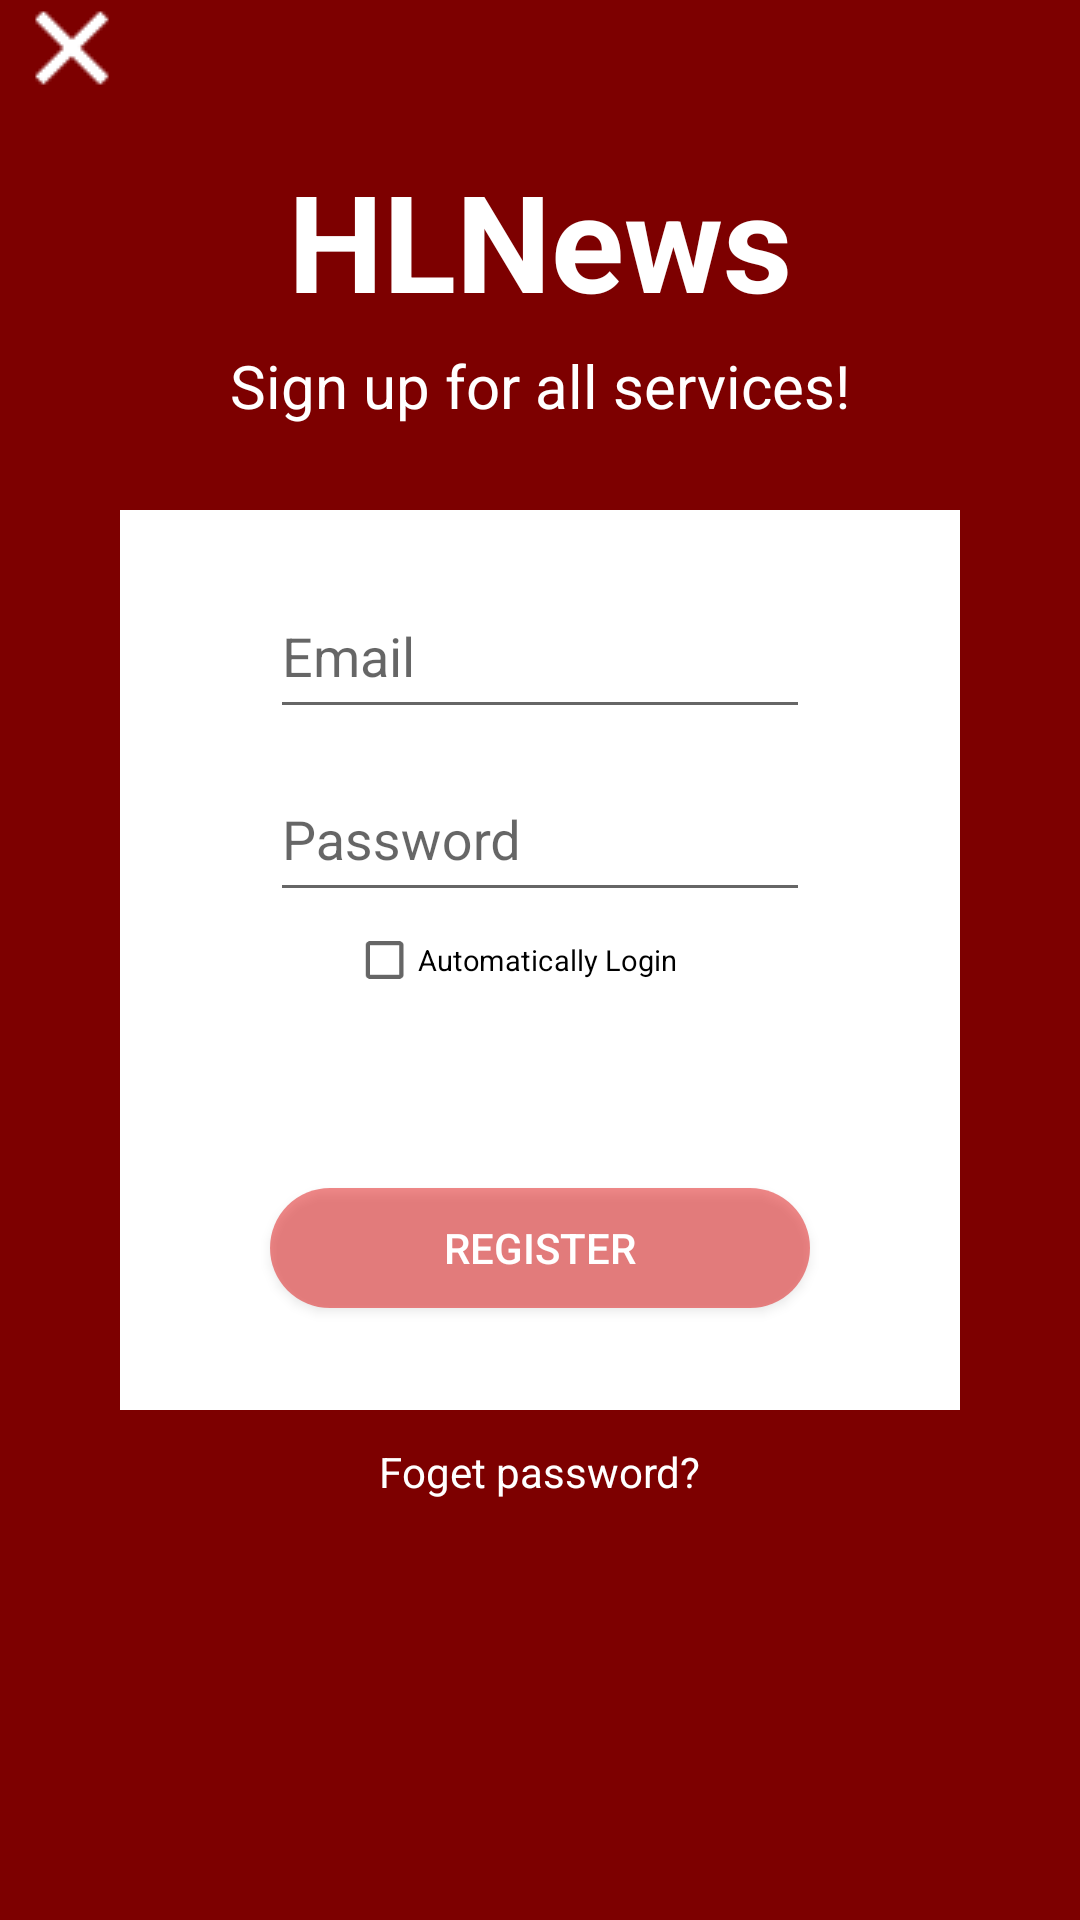

Icons on this 1080*1920 Android screen, each with its box as box=[x1, y1, x2, y2]:
cancel: box=[35, 11, 109, 85]
